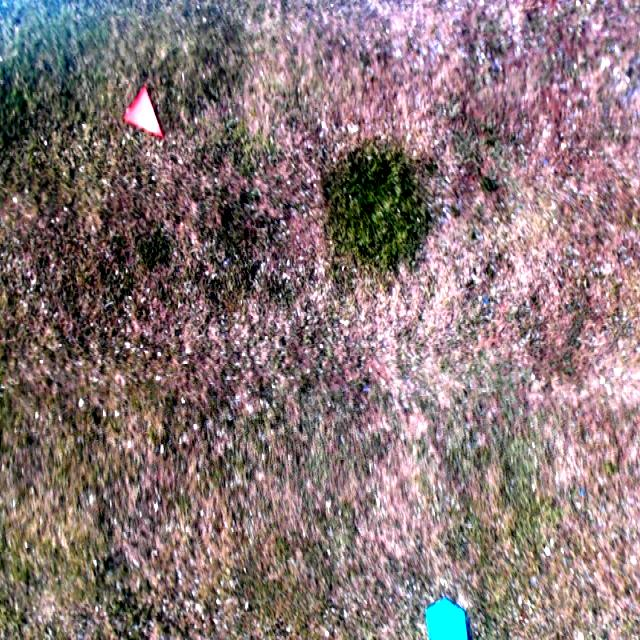red_triangle: (124, 84, 163, 139)
